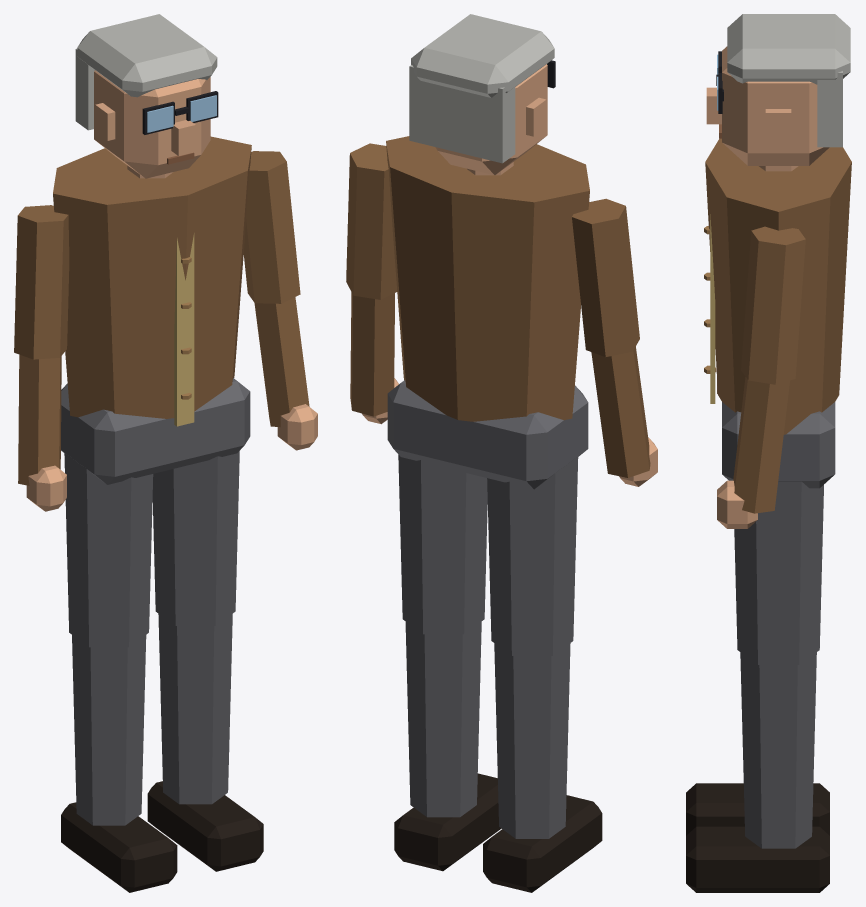
The model's file is person.res-tech-inexperienced.glb.
3 renders of one model, left to right at view 1: azimuth 30°, elevation 25°; view 2: azimuth 150°, elevation 25°; view 3: azimuth 270°, elevation 25°, orthographic. The views are drawn at different scales.
Parts seen in each view (by area): view 1: torso, thigh-1, thigh1, shin1, shin-1, hips, upper-1, hair, upper1, head, shoe-1, shoe1 (+8 smaller); view 2: torso, thigh-1, thigh1, shin1, shin-1, hips, upper-1, hair, hair-back, upper1, shoe-1, fore-1 (+4 smaller); view 3: torso, thigh1, shin1, upper1, shoe1, hair, head, fore1, hips, shoe-1, hair-back, hand1 (+3 smaller).
Boxes of the visible parts, bbox=[...] form: torso: bbox=[53, 136, 251, 418]; thigh-1: bbox=[64, 453, 153, 647]; thigh1: bbox=[152, 451, 239, 625]; shin1: bbox=[158, 613, 232, 804]; shin-1: bbox=[72, 635, 146, 825]; hips: bbox=[61, 378, 250, 484]; upper-1: bbox=[14, 205, 69, 359]; hair: bbox=[77, 14, 217, 97]; upper1: bbox=[243, 151, 300, 303]; head: bbox=[94, 70, 210, 178]; shoe-1: bbox=[61, 802, 177, 892]; shoe1: bbox=[147, 781, 263, 871]; torso: bbox=[386, 136, 589, 421]; thigh-1: bbox=[487, 456, 578, 655]; thigh1: bbox=[398, 454, 487, 634]; shin1: bbox=[405, 622, 481, 817]; shin-1: bbox=[494, 643, 570, 838]; hips: bbox=[387, 380, 588, 489]; upper-1: bbox=[572, 198, 639, 356]; hair: bbox=[411, 14, 554, 97]; hair-back: bbox=[409, 65, 515, 163]; upper1: bbox=[346, 143, 397, 299]; shoe-1: bbox=[483, 795, 602, 892]; fore-1: bbox=[591, 346, 650, 477]; torso: bbox=[705, 138, 851, 434]; thigh1: bbox=[734, 481, 823, 664]; shin1: bbox=[740, 652, 816, 848]; upper1: bbox=[741, 226, 805, 384]; shoe1: bbox=[686, 826, 829, 892]; hair: bbox=[727, 14, 850, 84]; head: bbox=[722, 46, 829, 165]; fore1: bbox=[733, 377, 789, 513]; hips: bbox=[722, 402, 835, 488]; shoe-1: bbox=[686, 783, 829, 835]; hair-back: bbox=[817, 71, 842, 147]; hand1: bbox=[717, 480, 757, 528].
Size of the model in its own units: 0.6746 by 1.78 by 0.3226.
